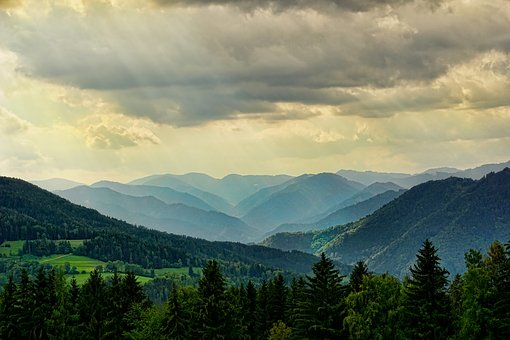forest: (15, 270, 508, 336)
mountain: (7, 170, 506, 337)
sky: (5, 4, 499, 158)
